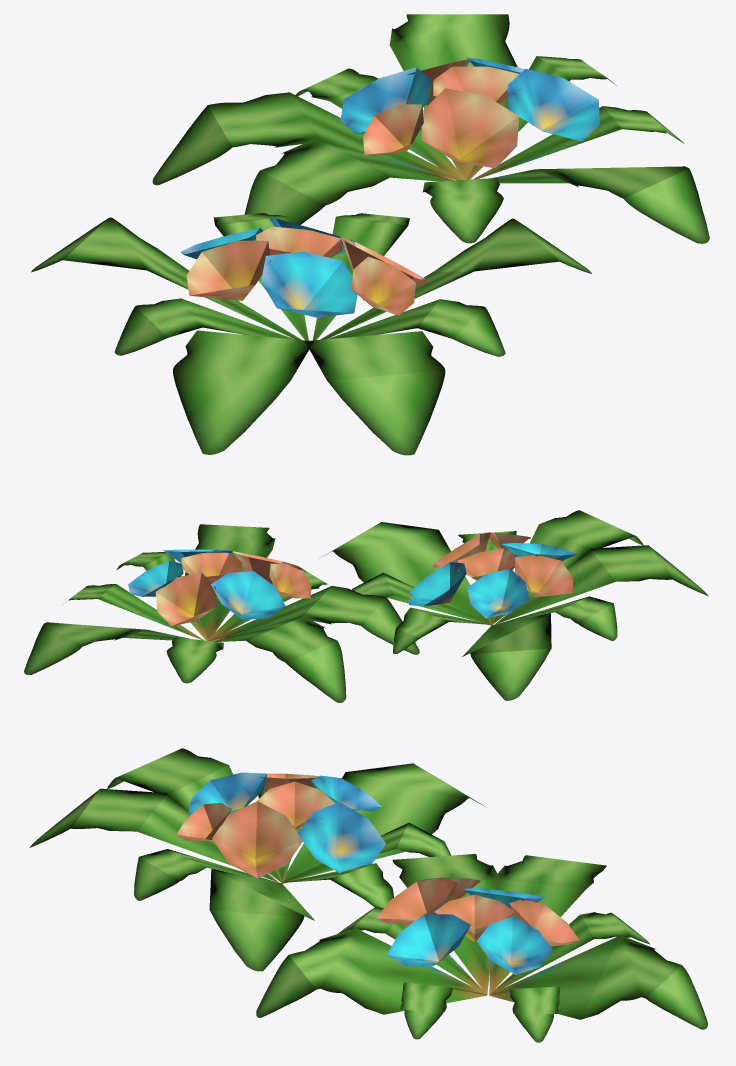
Rendered from Poly_Weed_Plant_06.obj.
The picture shows the model from 3 angles, top to bottom: view 1: azimuth 30°, elevation 25°; view 2: azimuth 150°, elevation 25°; view 3: azimuth 270°, elevation 25°; orthographic projection. The views are drawn at different scales.
Parts seen in each view (by area): view 1: Plane.002, Plane.001, Cube.003, Cube.010, Cube.005, Cube.009, Cube.002, Cube.013, Cube.006, Cube, Cube.007, Cube.011 (+1 smaller); view 2: Plane.002, Plane.001, Cube.002, Cube.001, Cube.012, Cube.009, Cube.008, Cube, Cube.004, Cube.007, Cube.006, Cube.010 (+4 smaller); view 3: Plane.001, Plane.002, Cube.011, Cube.008, Cube.005, Cube.004, Cube.003, Cube.010, Cube.007, Cube, Cube.001, Cube.013 (+3 smaller).
Boxes of the visible parts, x1,y1,x2,y2 form: Plane.002: (31, 213, 591, 455); Plane.001: (152, 14, 709, 243); Cube.003: (421, 88, 519, 168); Cube.010: (261, 251, 358, 317); Cube.005: (507, 68, 599, 141); Cube.009: (186, 240, 270, 300); Cube.002: (340, 67, 432, 134); Cube.013: (351, 256, 415, 315); Cube.006: (363, 104, 423, 154); Cube: (433, 66, 520, 104); Cube.007: (256, 226, 342, 257); Cube.011: (341, 237, 428, 300); Plane.002: (321, 510, 708, 700); Plane.001: (24, 524, 419, 702); Cube.002: (211, 571, 285, 619); Cube.001: (155, 572, 217, 626); Cube.012: (467, 568, 529, 618); Cube.009: (515, 555, 573, 597); Cube.008: (408, 562, 466, 606); Cube: (181, 552, 241, 583); Cube.004: (128, 560, 183, 596); Cube.007: (457, 548, 517, 580); Cube.006: (269, 563, 311, 598); Cube.010: (501, 542, 576, 561); Plane.001: (256, 854, 707, 1042); Plane.002: (29, 748, 486, 971); Cube.011: (212, 801, 302, 878); Cube.008: (297, 802, 385, 872); Cube.005: (386, 914, 470, 966); Cube.004: (476, 916, 552, 974); Cube.003: (376, 877, 457, 925); Cube.010: (188, 772, 266, 814); Cube.007: (256, 781, 335, 830); Cube: (434, 894, 514, 942); Cube.001: (509, 899, 579, 946); Cube.013: (176, 802, 231, 840).
Bounding box in the file's own units: 1.03 × 0.168 × 1.13.
1 material, 1 textured.
